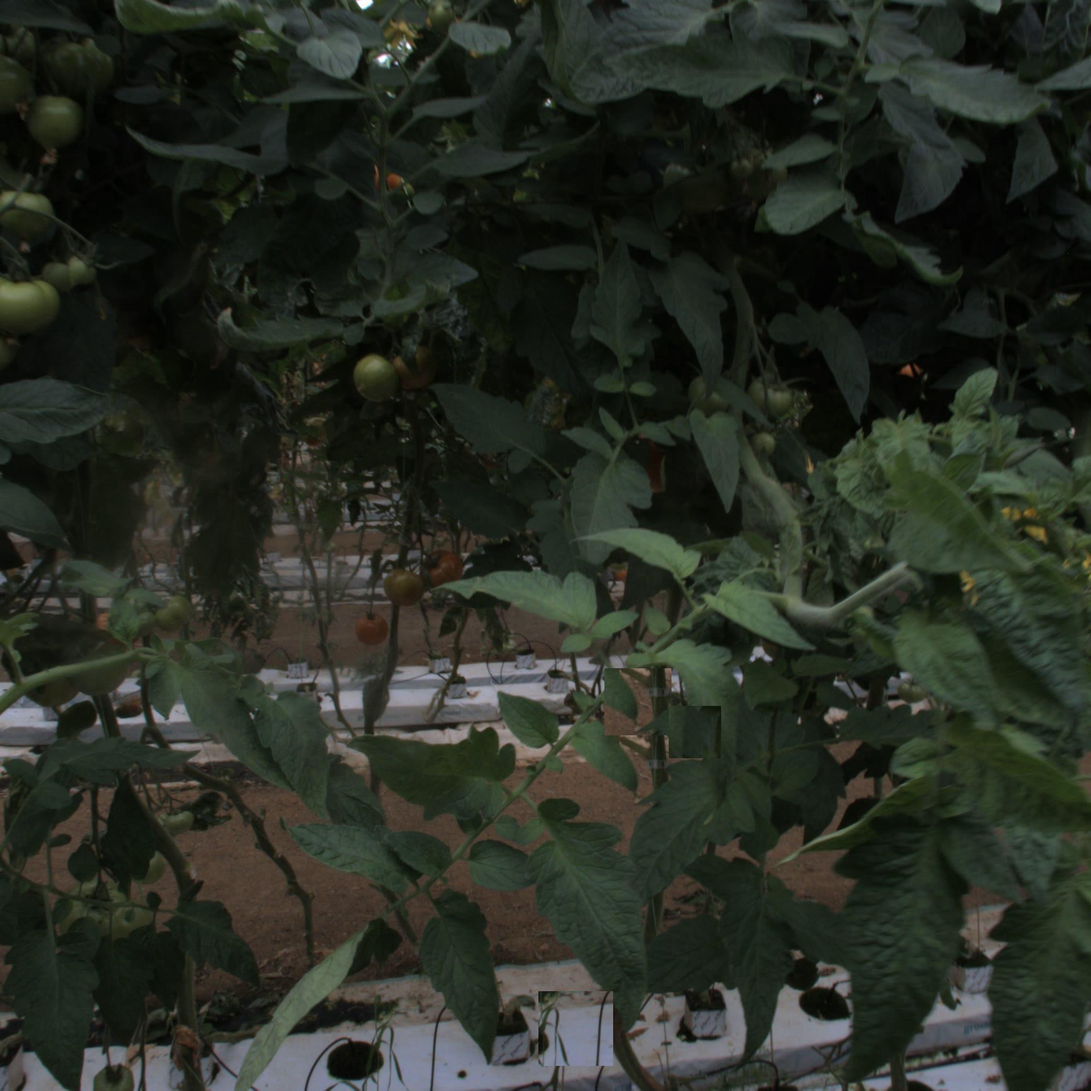semi-ripe: (383, 567, 425, 609), (422, 551, 463, 592), (355, 613, 390, 648)
unripe: (1, 275, 61, 335), (31, 94, 86, 149), (350, 353, 400, 404)
